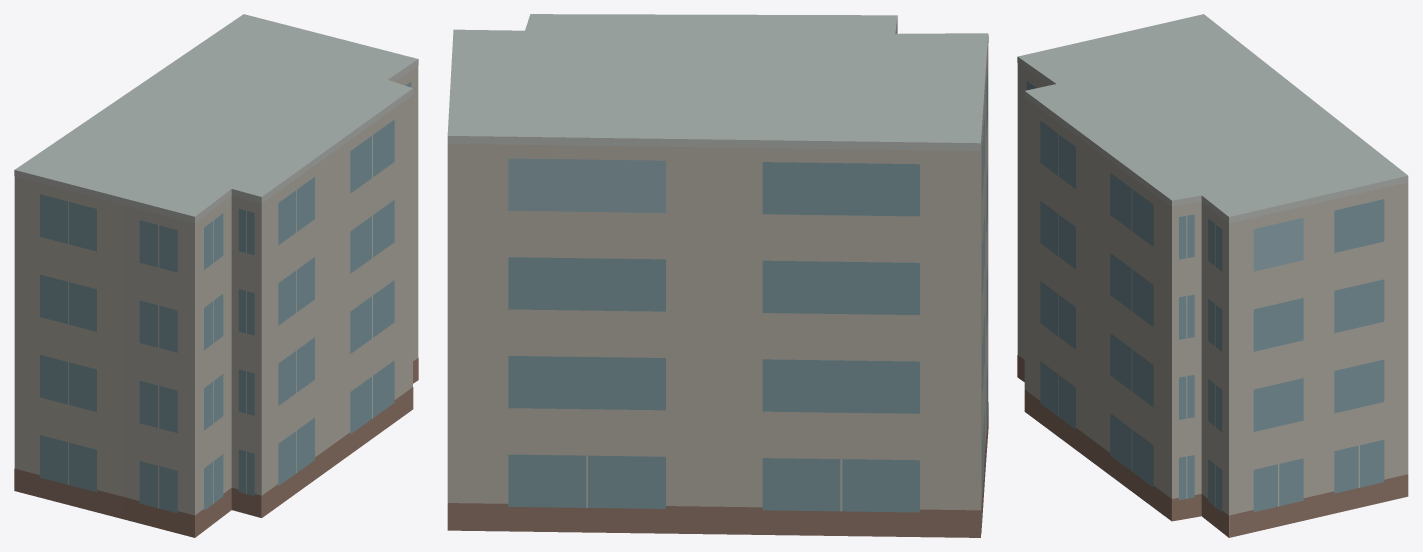
Rendered from survey-upis-32712018.glb.
3 views of the same model, side by side, from view 1: azimuth 30°, elevation 25°; view 2: azimuth 150°, elevation 25°; view 3: azimuth 270°, elevation 25° (orthographic). The views are drawn at different scales.
Visible parts, largest first — view 1: survey-upis-32712018.tmp; view 2: survey-upis-32712018.tmp; view 3: survey-upis-32712018.tmp.
Boxes of the visible parts, x1,y1,x2,y2 form: survey-upis-32712018.tmp: (14,14,418,537); survey-upis-32712018.tmp: (447,14,988,537); survey-upis-32712018.tmp: (1017,14,1408,537).
Bounding box in the file's own units: 16.5 × 12.15 × 13.42.
